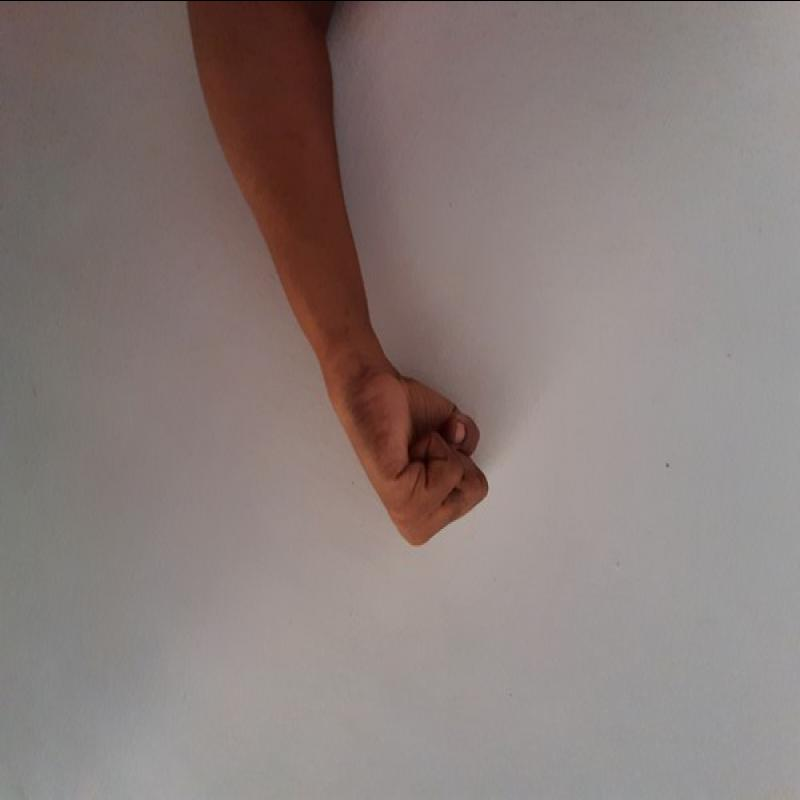Mushti: (336, 356, 505, 556)
